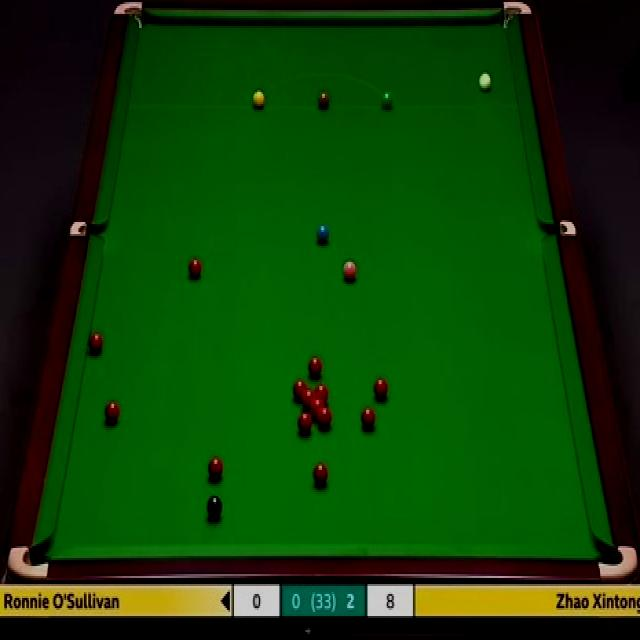pocket: (594, 543, 640, 582), (6, 544, 51, 582), (112, 0, 145, 31), (69, 218, 105, 236), (541, 220, 577, 237)
